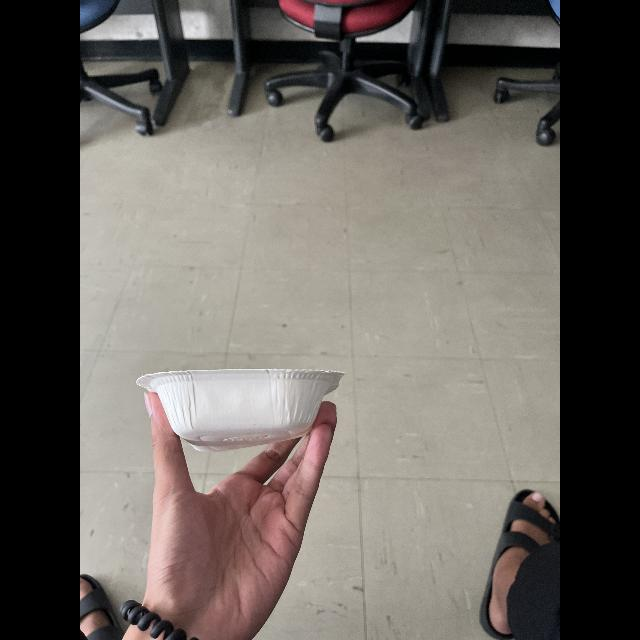cardboard_bowl: (133, 361, 345, 454)
